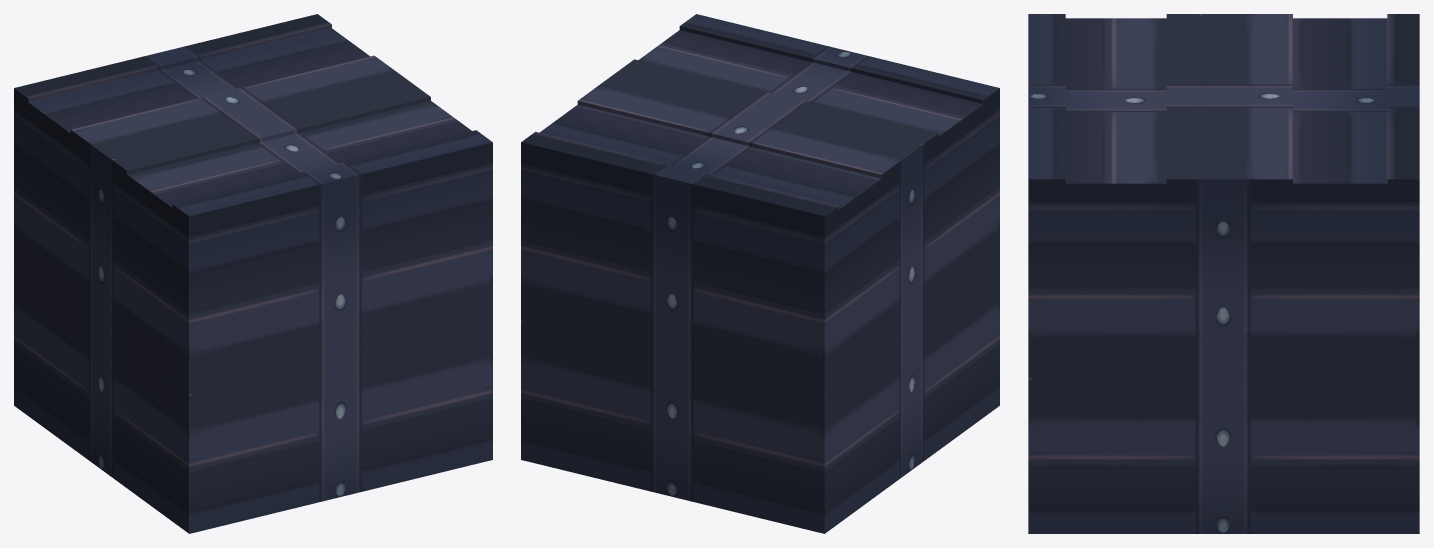
The model's file is Pared extra (2).fbx.
3 views of the same model, side by side, from view 1: azimuth 30°, elevation 25°; view 2: azimuth 150°, elevation 25°; view 3: azimuth 270°, elevation 25° (orthographic). The views are drawn at different scales.
Parts seen in each view (by area): view 1: Piso base; view 2: Piso base; view 3: Piso base.
Part boxes in pixels (bbox=[...]): Piso base: bbox=[14, 14, 492, 533]; Piso base: bbox=[521, 14, 999, 533]; Piso base: bbox=[1028, 14, 1419, 533].
Size of the model in its own units: 200 by 200 by 200.
